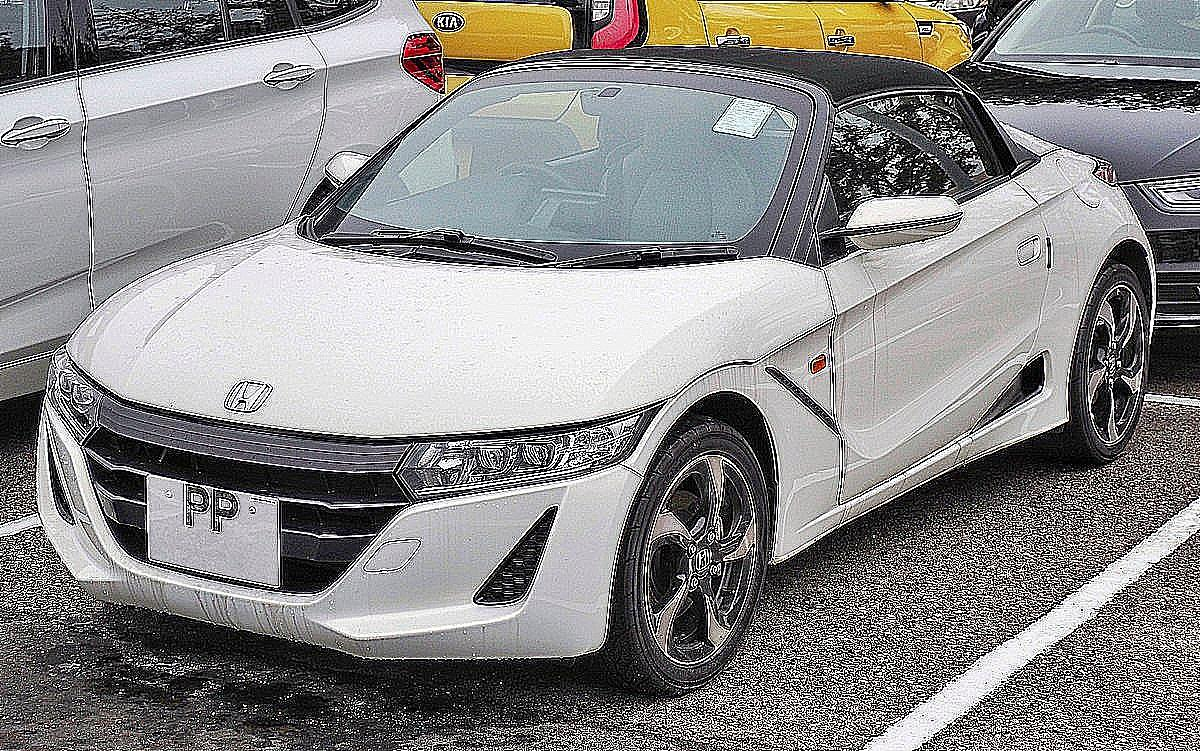Car hood: (70, 215, 822, 446)
Fender - -F-L-: (613, 265, 846, 509)
Fender - -R-L-: (1005, 144, 1157, 419)
Front bumper: (25, 399, 647, 667)
Headlight - -L-: (393, 391, 675, 508)
Headlight - -R-: (41, 344, 103, 449)
Passenger-s door - -F-L-: (794, 51, 1059, 556)
Side bumper - -L-: (752, 335, 1096, 613)
Side bumper - -R-: (816, 191, 962, 256)
